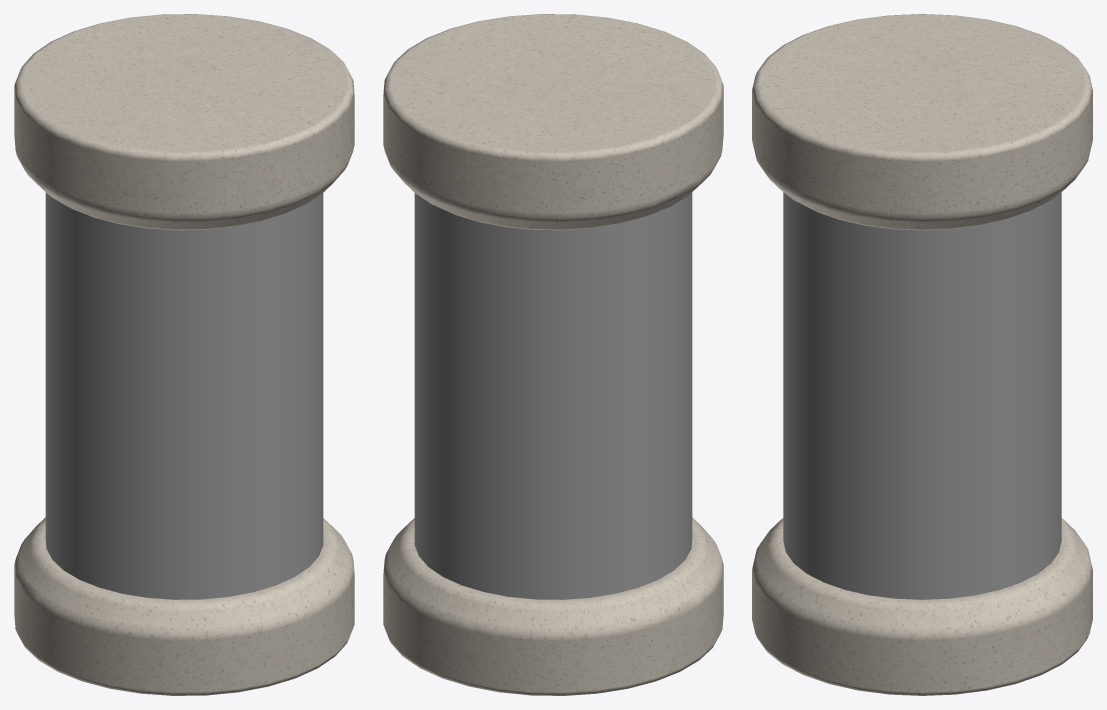
The model's file is Tube Intact.fbx.
3 renders of one model, left to right at view 1: azimuth 30°, elevation 25°; view 2: azimuth 150°, elevation 25°; view 3: azimuth 270°, elevation 25°, orthographic.
Parts seen in each view (by area): view 1: Tube Glass Intact, Ceiling Tube Intact; view 2: Tube Glass Intact, Ceiling Tube Intact; view 3: Tube Glass Intact, Ceiling Tube Intact.
Boxes of the visible parts, x1,y1,x2,y2 form: Tube Glass Intact: (45,192,323,599); Ceiling Tube Intact: (14,14,354,695); Tube Glass Intact: (414,192,692,599); Ceiling Tube Intact: (383,14,723,695); Tube Glass Intact: (783,192,1061,599); Ceiling Tube Intact: (752,14,1092,695).
Bounding box in the file's own units: 2.27 × 2.27 × 4.
